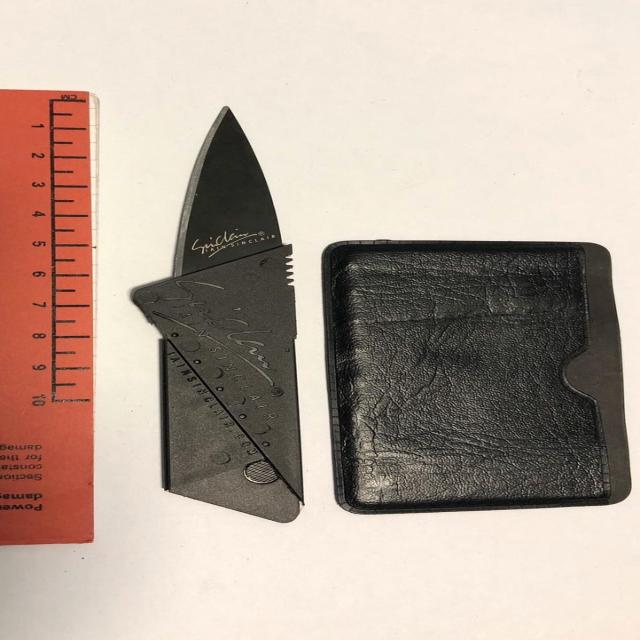Sharp-Object: (161, 103, 307, 525)
